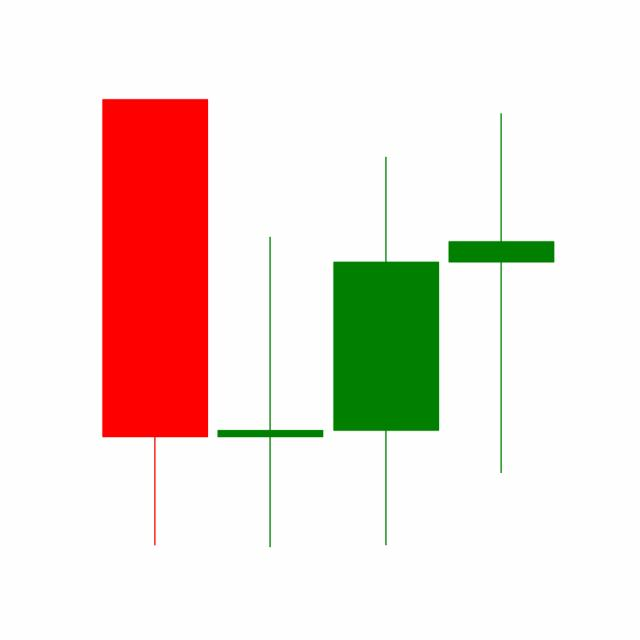Spinning Top: (443, 109, 559, 477)
